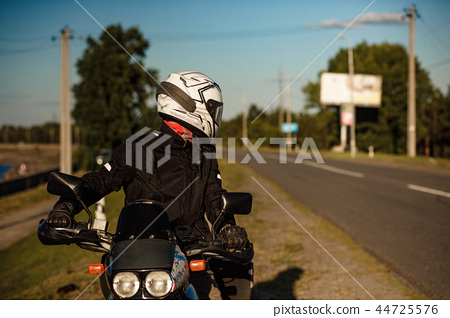helmet: (159, 63, 227, 137)
